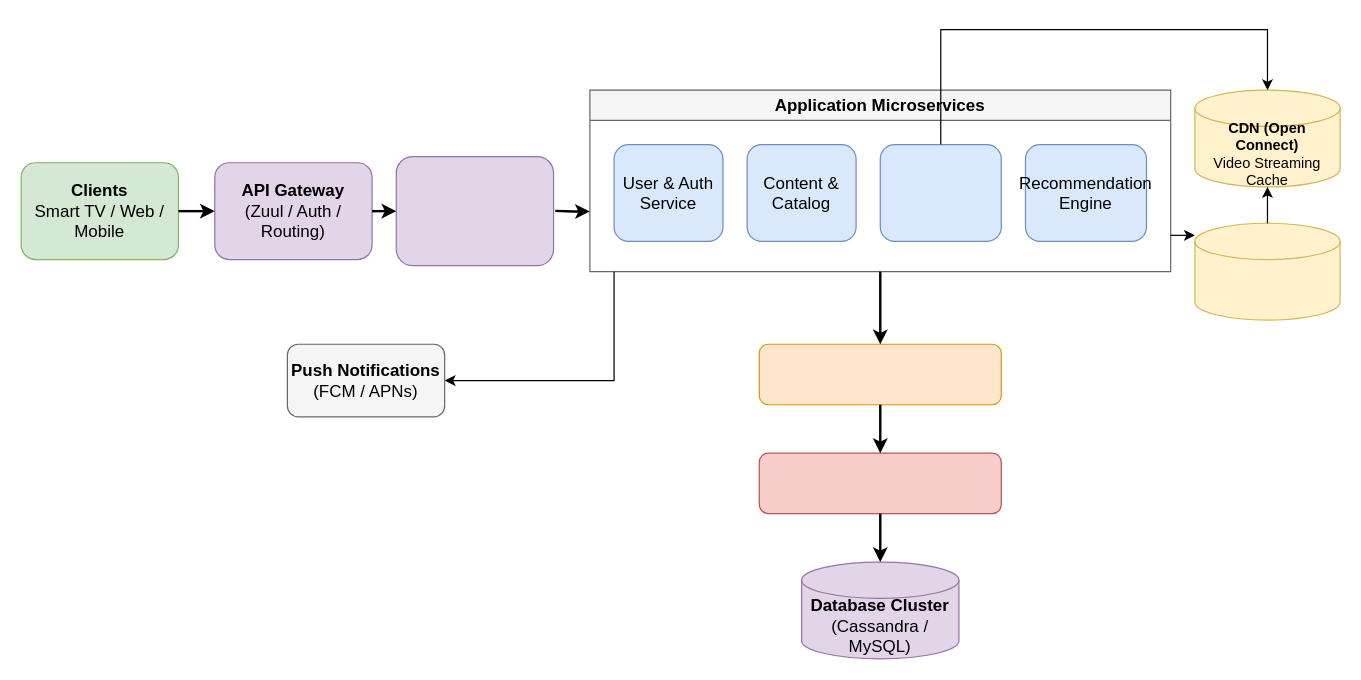
The diagram is 1361 pixels wide and 680 high, and some of its shapes have lost their labels. Here are the shapes that lost their labels. From the top down, the centre of each, then its label:
At point (474, 210): "Load Balancer".
At point (940, 192): "Video Streaming".
At point (1267, 271): "Object Storage (AWS S3 - Raw Videos)".
At point (879, 374): "Message Queue (Apache Kafka)".
At point (879, 483): "Cache Layer (Redis / EVCache)".
